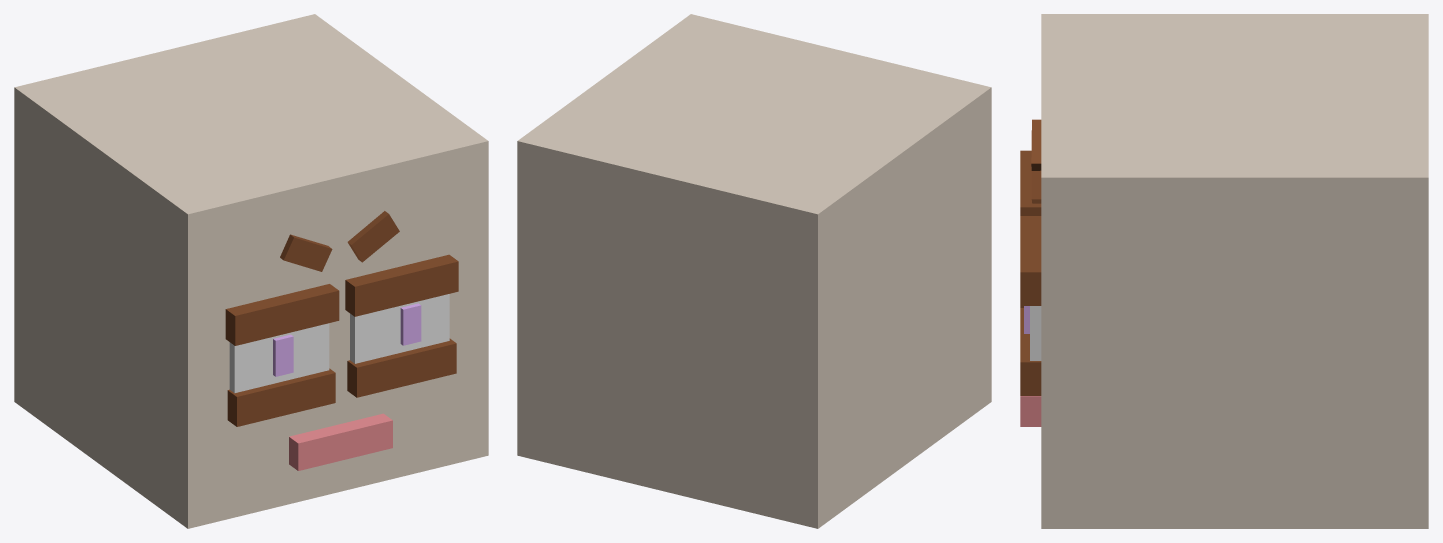
File: Head.glb
3 views of the same model, side by side, from view 1: azimuth 30°, elevation 25°; view 2: azimuth 150°, elevation 25°; view 3: azimuth 270°, elevation 25° (orthographic). The views are drawn at different scales.
Parts seen in each view (by area): view 1: Cube.009; view 2: Cube.009; view 3: Cube.009.
Boxes of the visible parts, <box> form: Cube.009: <box>14,14,488,528</box>; Cube.009: <box>517,14,991,528</box>; Cube.009: <box>1020,14,1428,528</box>.
Bounding box in the file's own units: 2 × 2 × 2.11.
